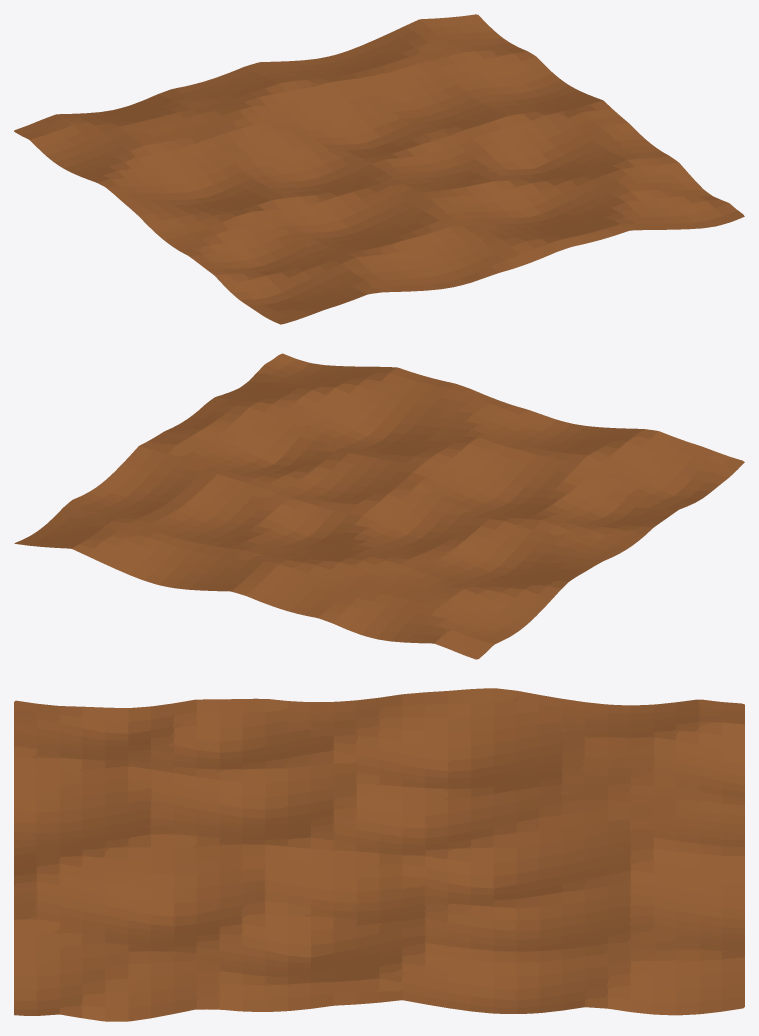
File: scifi_ground.gltf
The picture shows the model from 3 angles, top to bottom: view 1: azimuth 30°, elevation 25°; view 2: azimuth 150°, elevation 25°; view 3: azimuth 270°, elevation 25°; orthographic projection. The views are drawn at different scales.
Visible parts, largest first — view 1: Plane; view 2: Plane; view 3: Plane.
Part boxes in pixels (<box>): Plane: <box>14,14,744,324</box>; Plane: <box>14,353,744,659</box>; Plane: <box>14,688,744,1021</box>.
Bounding box in the file's own units: 80 × 4.01 × 80.
